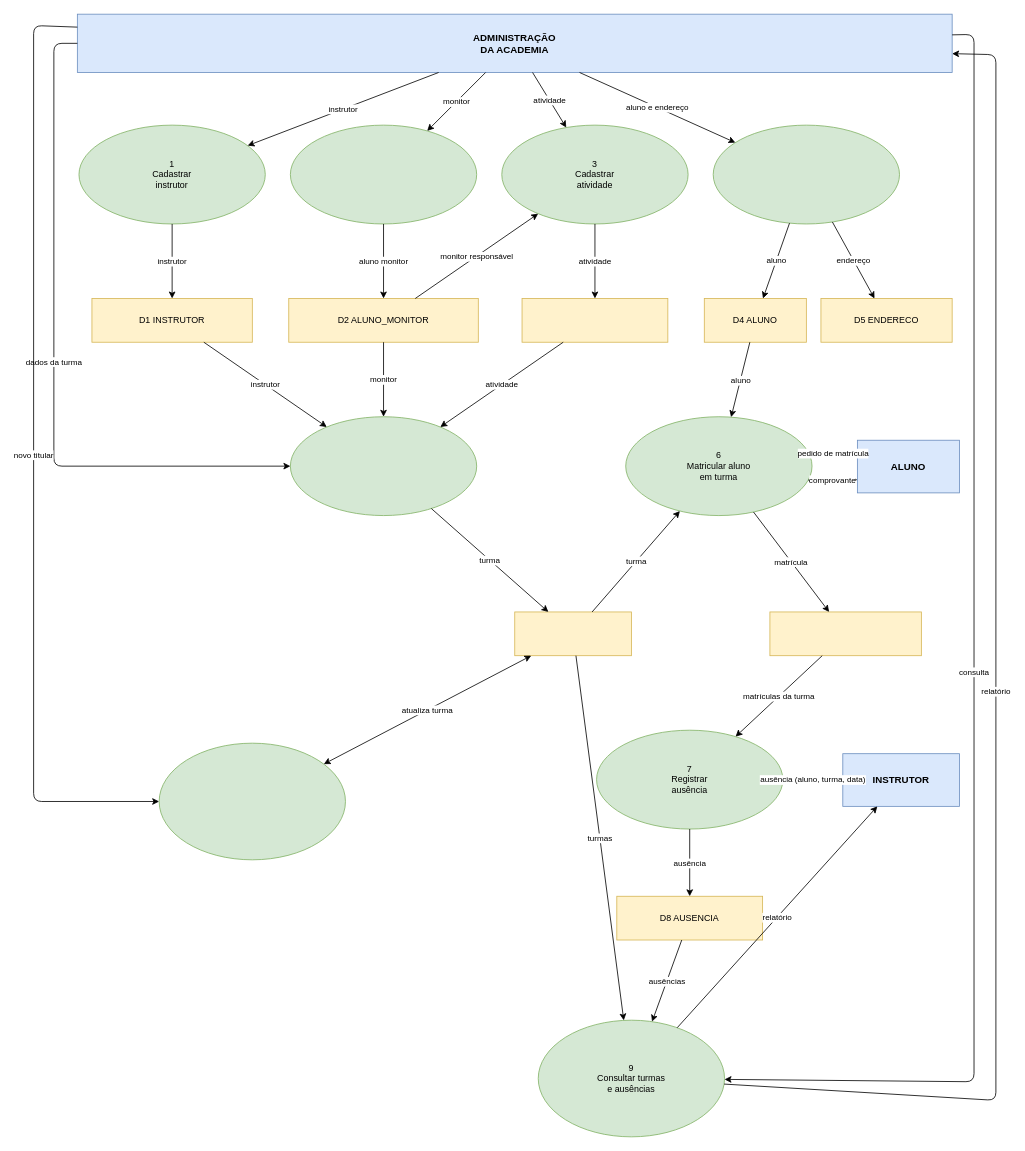
This 1025x1151 diagram has some shape labels left out. Each missing label, with the centre of its shape:
"2 Cadastrar aluno monitor" belongs at point (383, 174).
"4 Cadastrar aluno" belongs at point (806, 174).
"5 Cadastrar turma" belongs at point (383, 466).
"8 Substituir instrutor ou monitor" belongs at point (251, 801).
"D3 ATIVIDADE" belongs at point (594, 320).
"D6 TURMA" belongs at point (572, 633).
"D7 MATRICULA" belongs at point (845, 633).
